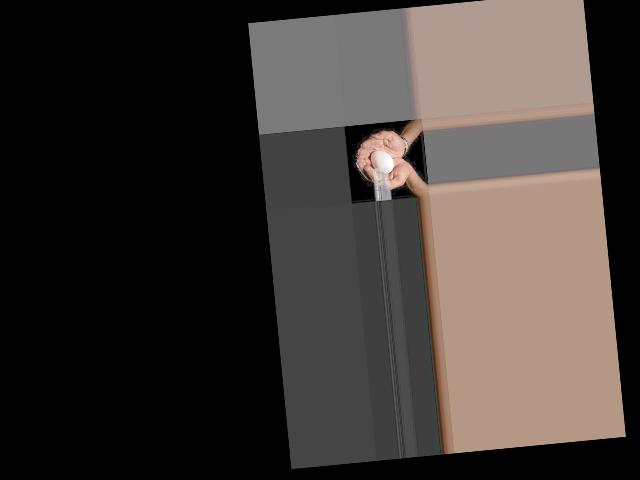egg: (369, 148, 393, 173)
